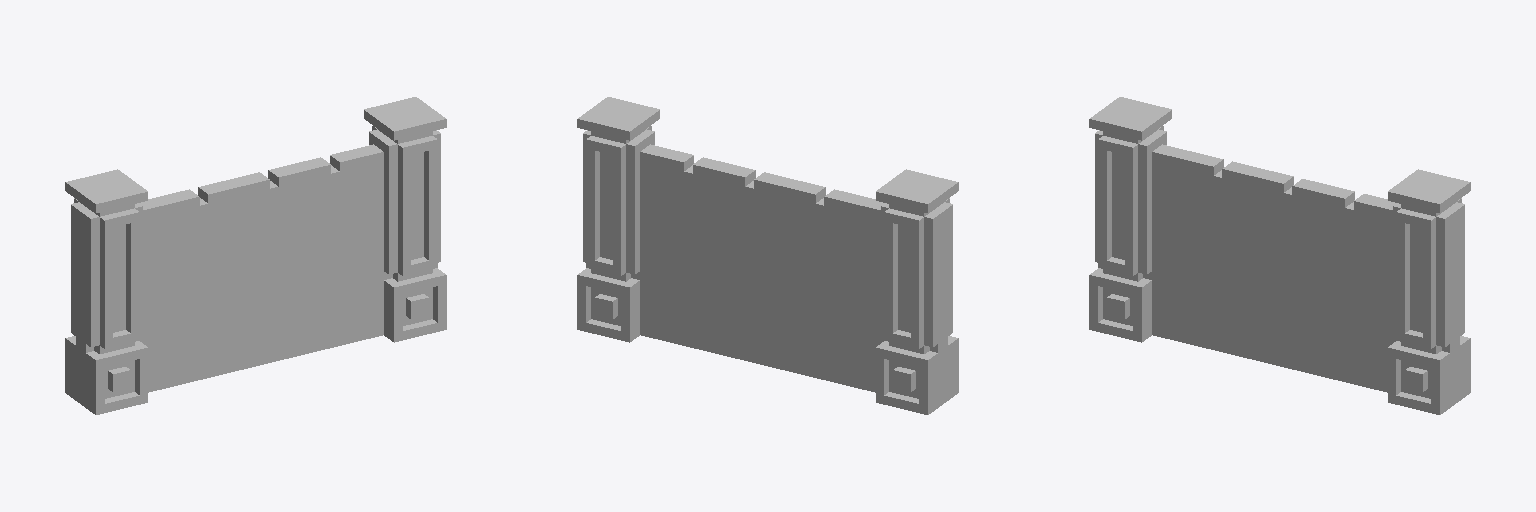
Rendered from wall.obj.
3 views of the same model, side by side, from view 1: azimuth 30°, elevation 25°; view 2: azimuth 150°, elevation 25°; view 3: azimuth 330°, elevation 25° (orthographic).
Visible parts, largest first — view 1: object 1; view 2: object 1; view 3: object 1.
Part boxes in pixels (left/top/right/bottom): object 1: left=65, top=97, right=446, bottom=414; object 1: left=577, top=97, right=958, bottom=414; object 1: left=1089, top=97, right=1470, bottom=414.
Size of the model in its own units: 4 by 2.3 by 0.6.